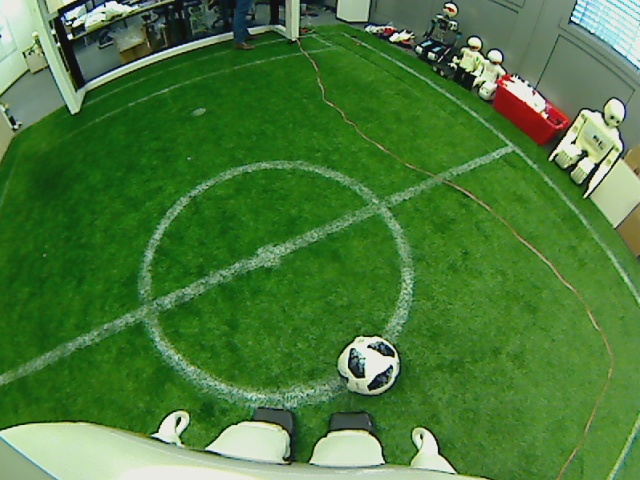ball: (334, 334, 401, 397)
